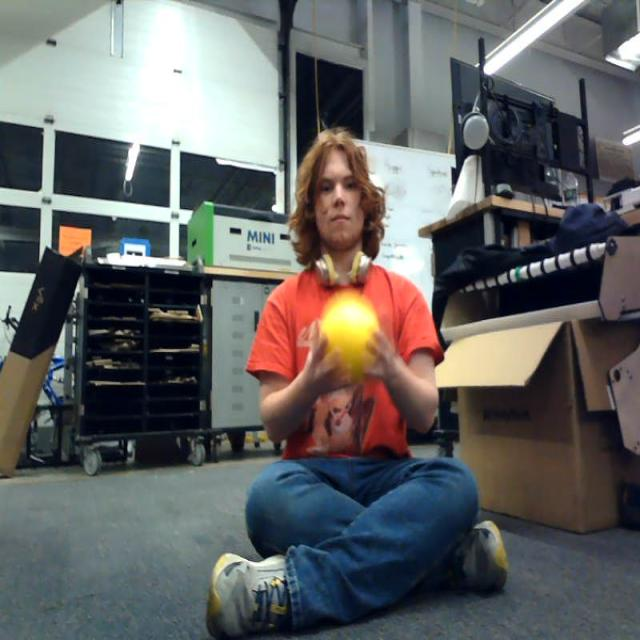Fuel: (319, 298, 381, 381)
